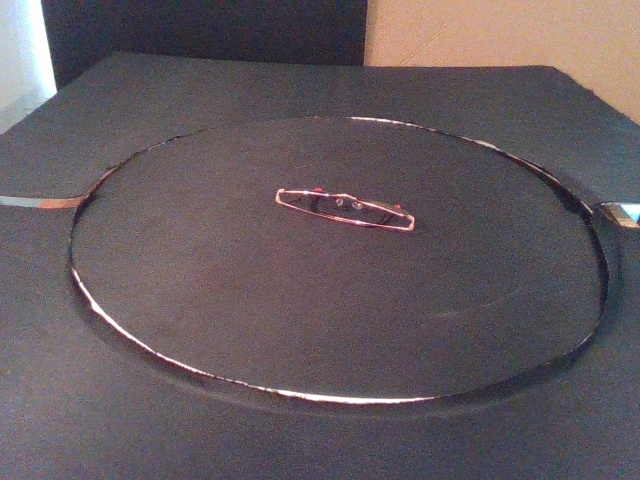glasses: (274, 186, 417, 234)
